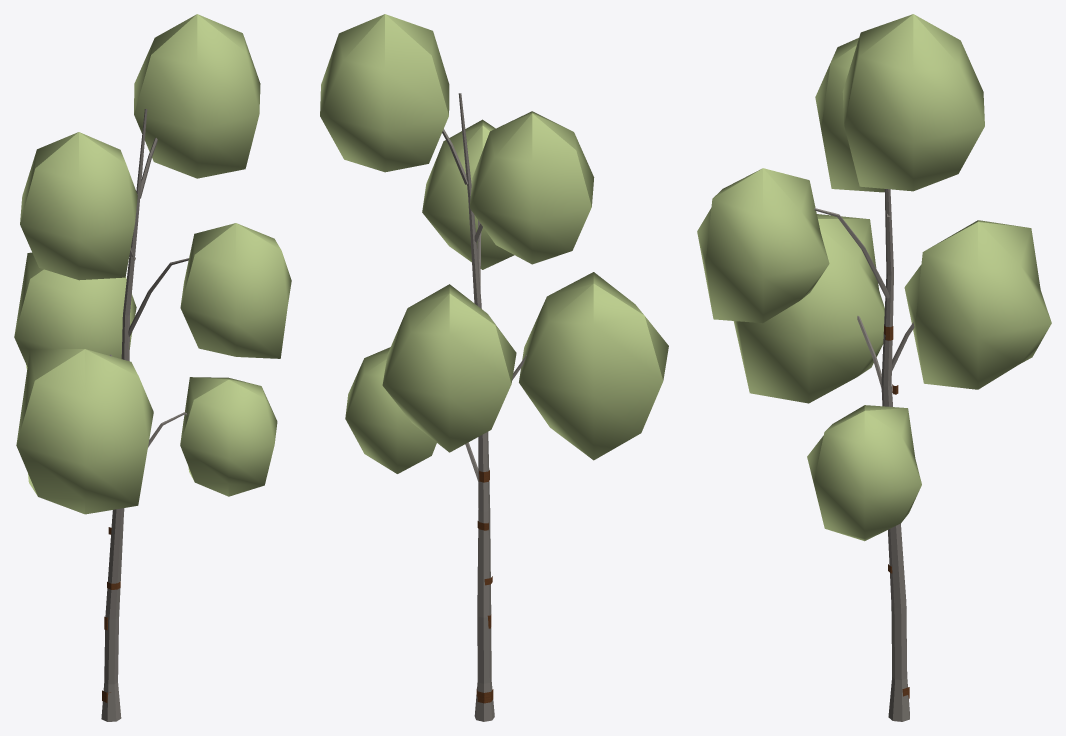
File: cherry-young.glb
The picture shows the model from 3 angles, left to right: view 1: azimuth 30°, elevation 25°; view 2: azimuth 150°, elevation 25°; view 3: azimuth 270°, elevation 25°; orthographic projection. The views are drawn at different scales.
Visible parts, largest first — view 1: cherry-young; view 2: cherry-young; view 3: cherry-young.
Part boxes in pixels (x1,y1,x2,y2): cherry-young: (14, 14, 291, 721); cherry-young: (320, 14, 668, 721); cherry-young: (697, 14, 1051, 721).
Bounding box in the file's own units: 2.04 × 4.52 × 1.93.
3 materials, 1 textured.
